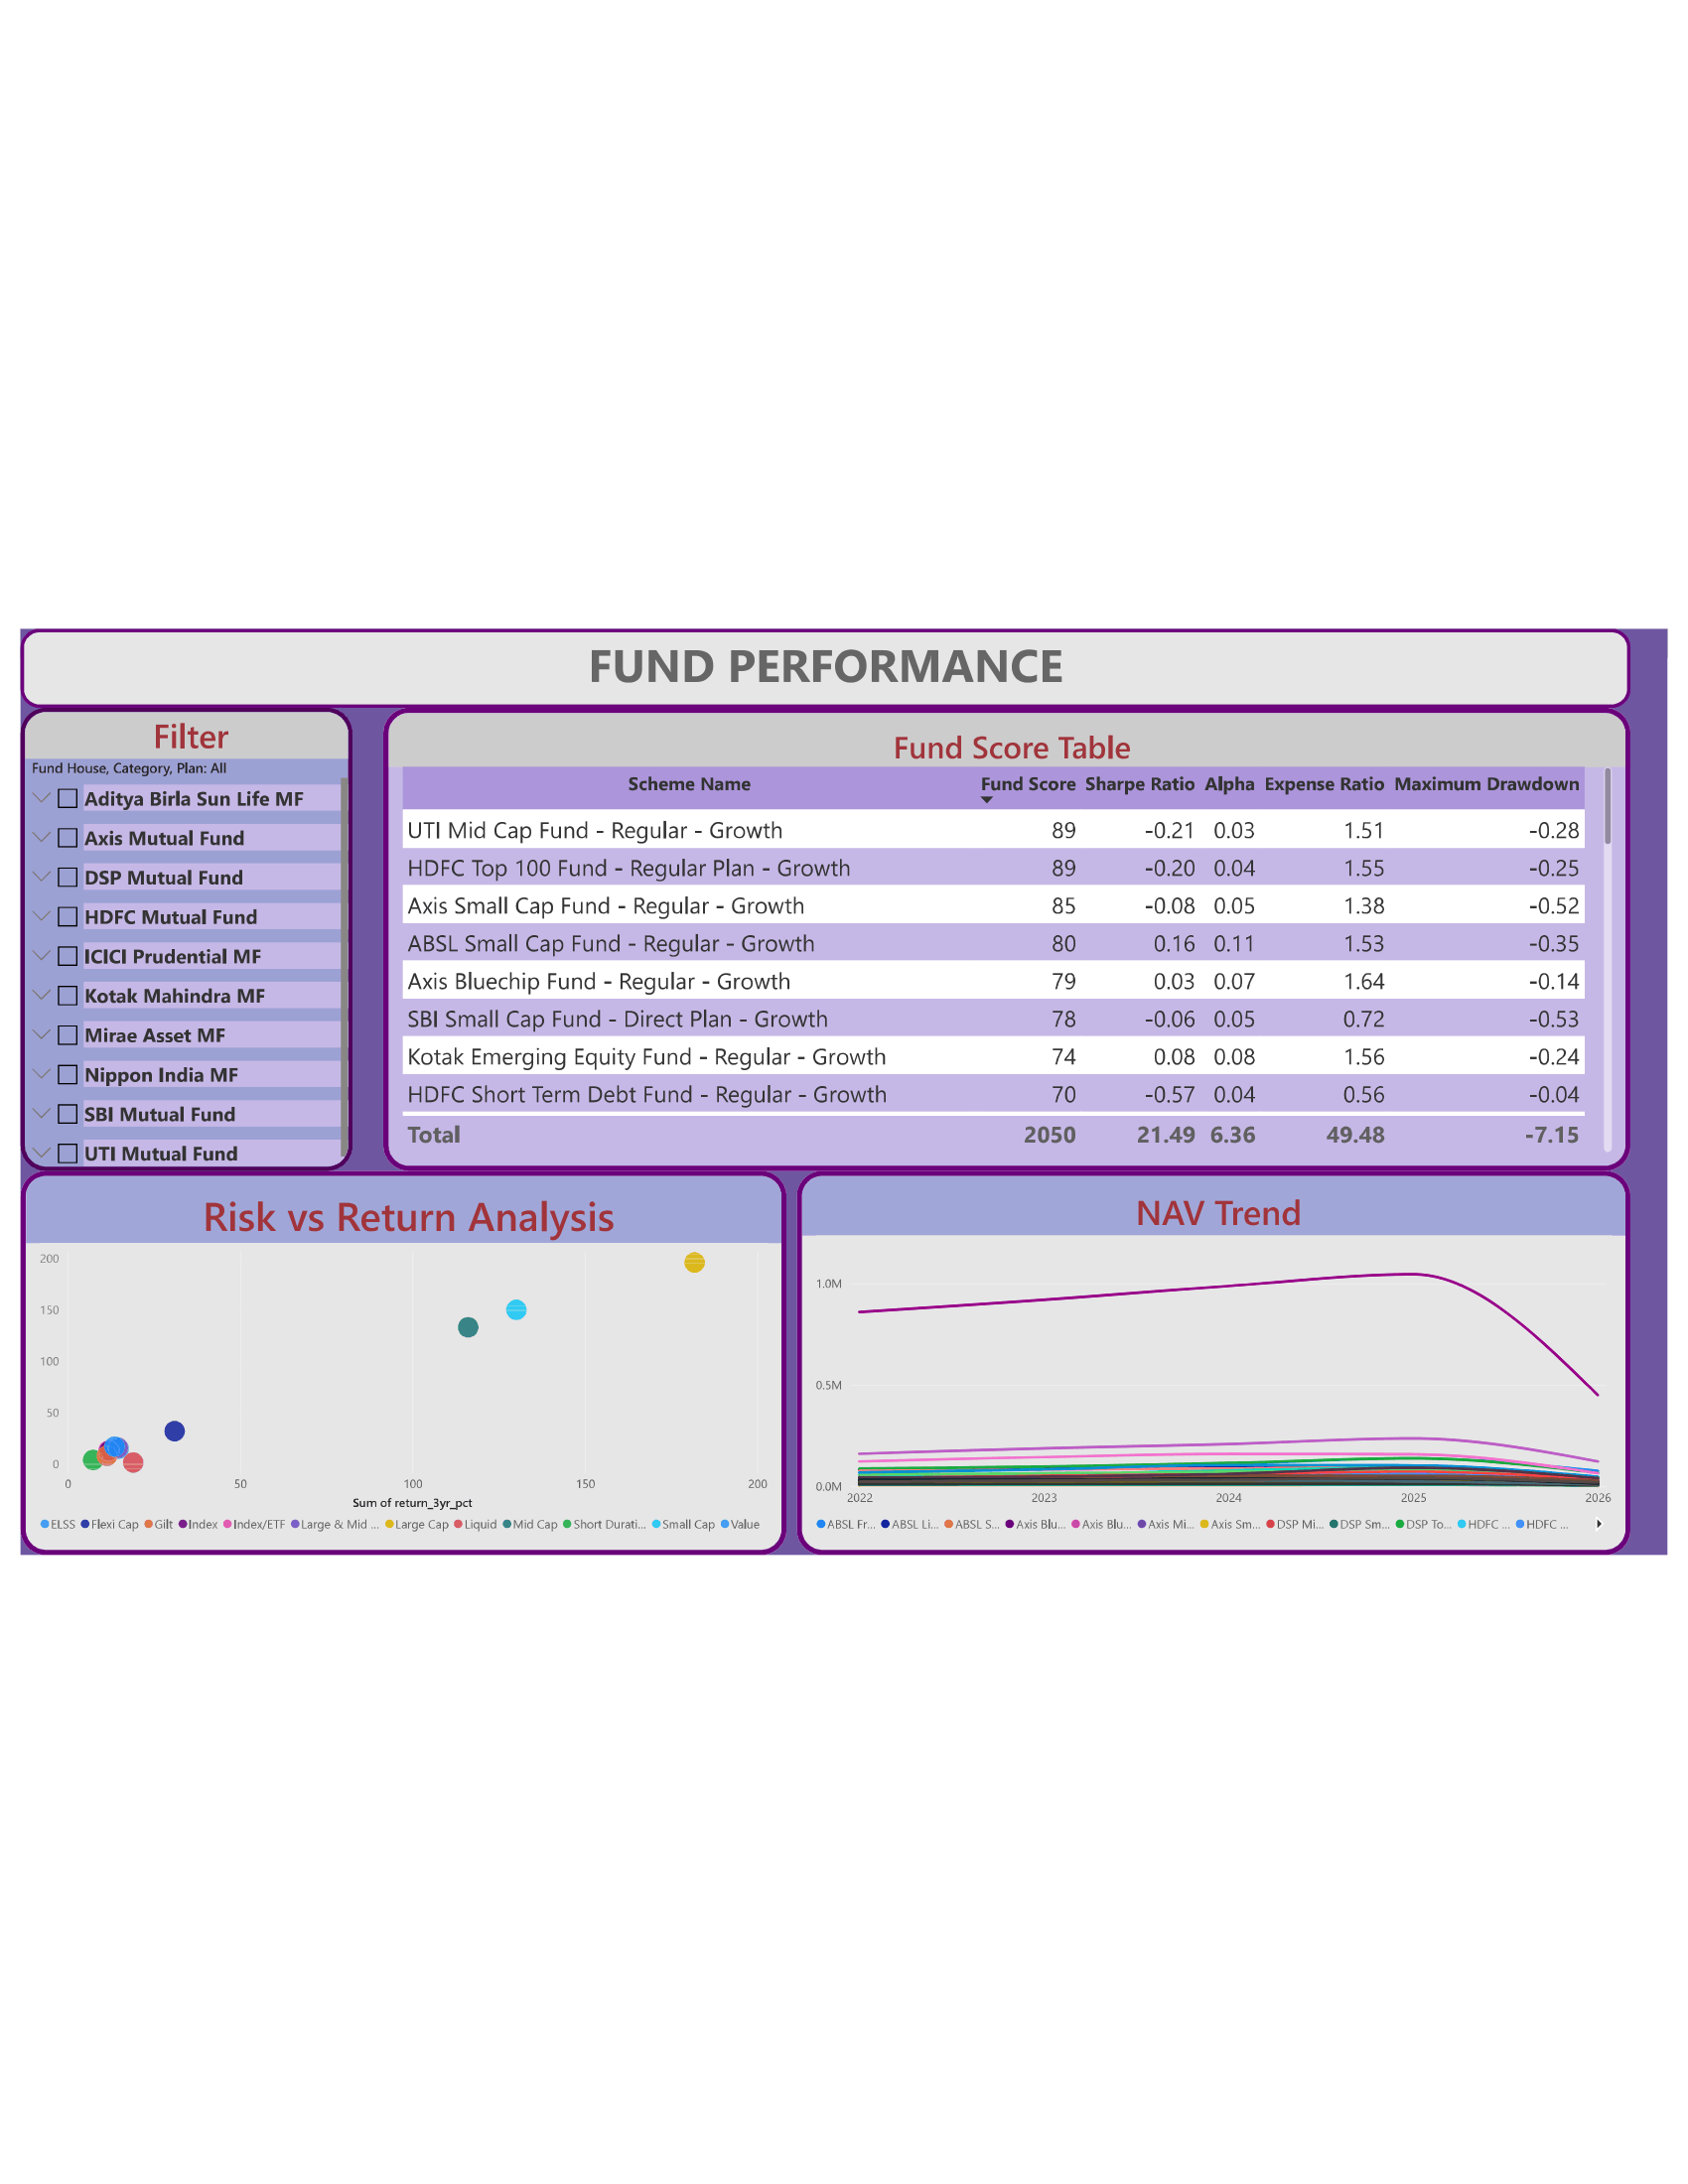

This screenshot's page, from the dashboard's own definition file:
{"tool":"powerbi","page":{"name":"Fund_Performance","canvas":[1920,1080],"ordinal":1},"visuals":[{"type":"scatterChart","title":"Risk vs Return Analysis","fields":{"Series":["clean_scheme_performance.category"],"Size":["Sum(03_aum_by_fund_house.aum_crore)"],"X":["Sum(clean_scheme_performance.return_3yr_pct)"],"Y":["Sum(clean_scheme_performance.std_dev_ann_pct)"]},"box":[0,631.7,893.3,448.3],"z":0},{"type":"tableEx","title":"Fund Score Table","fields":{"Values":["fund_scorecard.scheme_name","Sum(fund_scorecard.Fund_Score)","Sum(fund_scorecard.Sharpe_Ratio)","Sum(fund_scorecard.Alpha)","Sum(fund_scorecard.expense_ratio_pct)","Sum(fund_scorecard.Max_Drawdown)"]},"box":[423.3,91.7,1453.3,540],"z":1000},{"type":"lineChart","title":"NAV Trend","fields":{"Category":["clean_nav_history.date.Variation.Date Hierarchy.Year","clean_nav_history.date.Variation.Date Hierarchy.Quarter","clean_nav_history.date.Variation.Date Hierarchy.Month","clean_nav_history.date.Variation.Date Hierarchy.Day"],"Series":["fund_scorecard.scheme_name"],"Y":["Sum(clean_nav_history.nav)"]},"box":[905,631.7,971.7,448.3],"z":2000},{"type":"slicer","title":"Filter","fields":{"Values":["01_fund_master.fund_house","clean_scheme_performance.category","clean_scheme_performance.plan"]},"box":[0,91.7,386.7,540],"z":3000},{"type":"textbox","box":[0,0,1876.7,91.7],"z":4000}]}

Visuals, with their boxes on the page's 1920x1080 design canvas (x1, y1, x2, y2). These are canvas units, not pixel positions in the 1688x2184 screenshot, which may show the page scaled, cropped or inside an application window:
"Risk vs Return Analysis" scatterChart: pyautogui.locateOnScreen(0, 632, 893, 1080)
"Fund Score Table" tableEx: pyautogui.locateOnScreen(423, 92, 1877, 632)
"NAV Trend" lineChart: pyautogui.locateOnScreen(905, 632, 1877, 1080)
"Filter" slicer: pyautogui.locateOnScreen(0, 92, 387, 632)
textbox: pyautogui.locateOnScreen(0, 0, 1877, 92)
